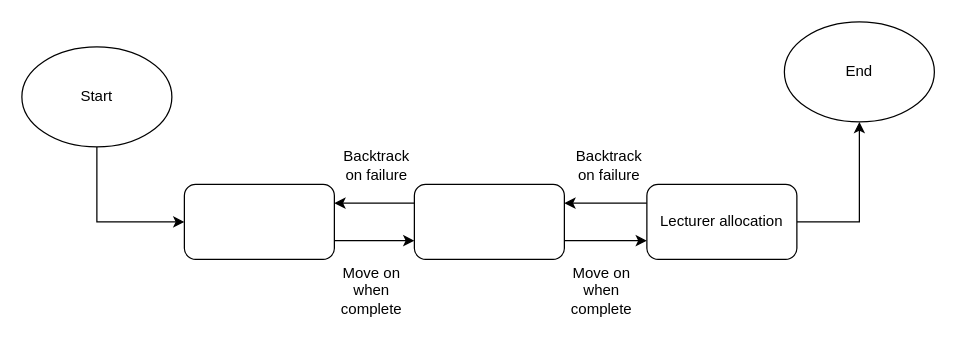
Image size: 956x339. Some labels were removed from this diagram. Here are the shapes that lost their labels. From the top down, the centre of each, then its label:
At pixel 258 221: "Period allocation".
At pixel 488 221: "Room allocation".
